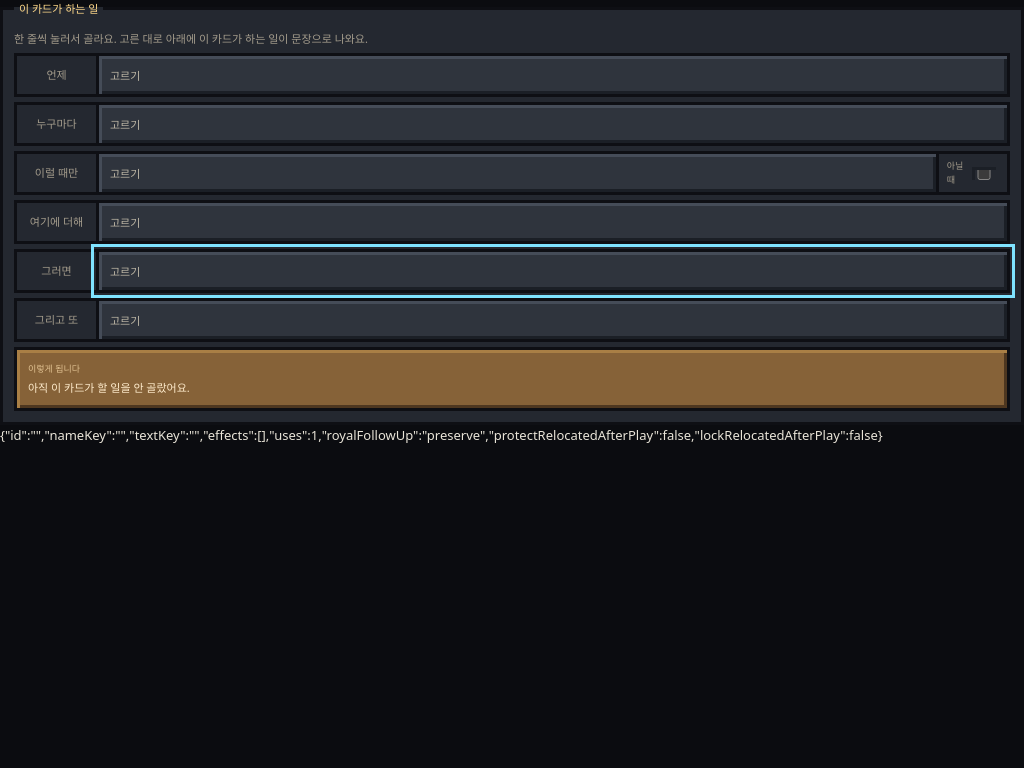
Test case: Phase 2 — a slot is a chip that opens a sheet › shows no sheet until a chip is tapped
Click the button with test id "slot-then".
click(125, 271)  # box [96,249,1010,293]
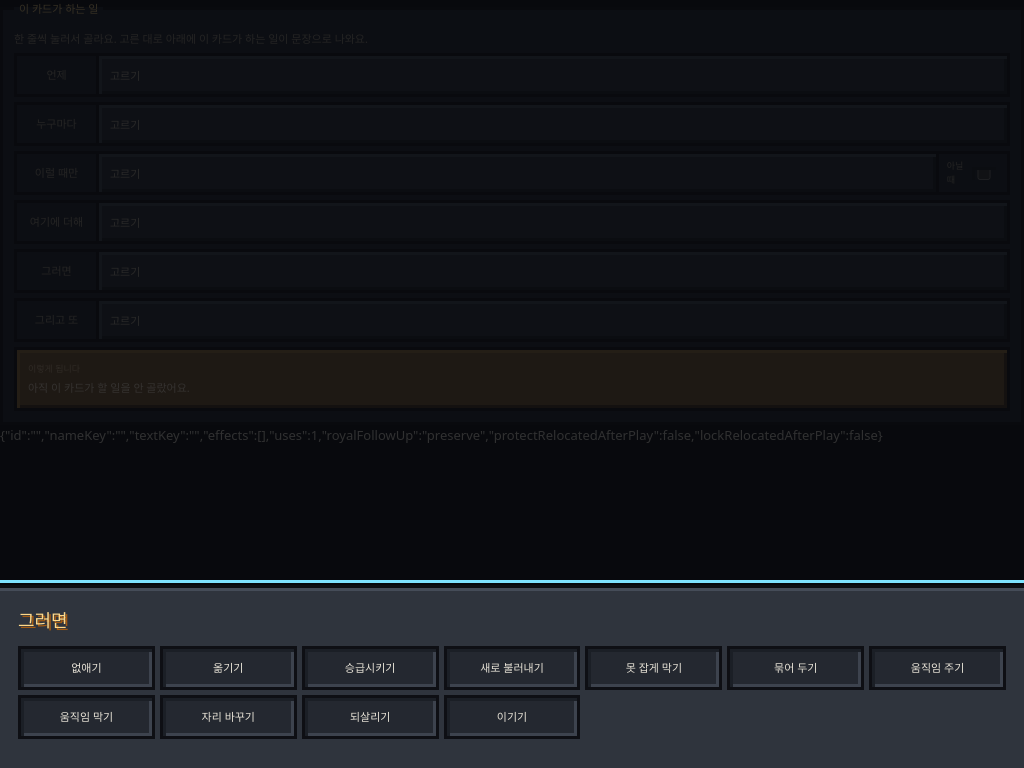
Expected: the element with test id "slot-sheet-then" is shown
